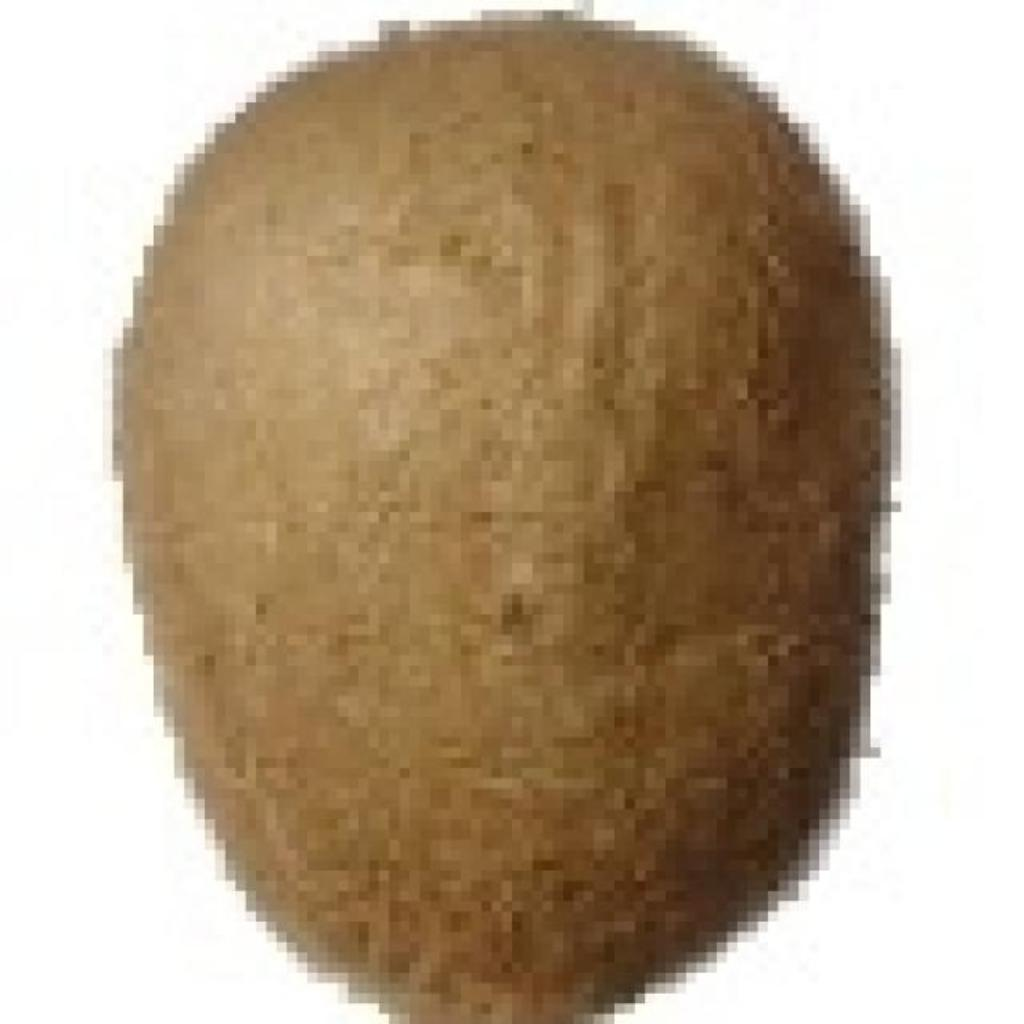kiwi: (113, 10, 870, 1004)
